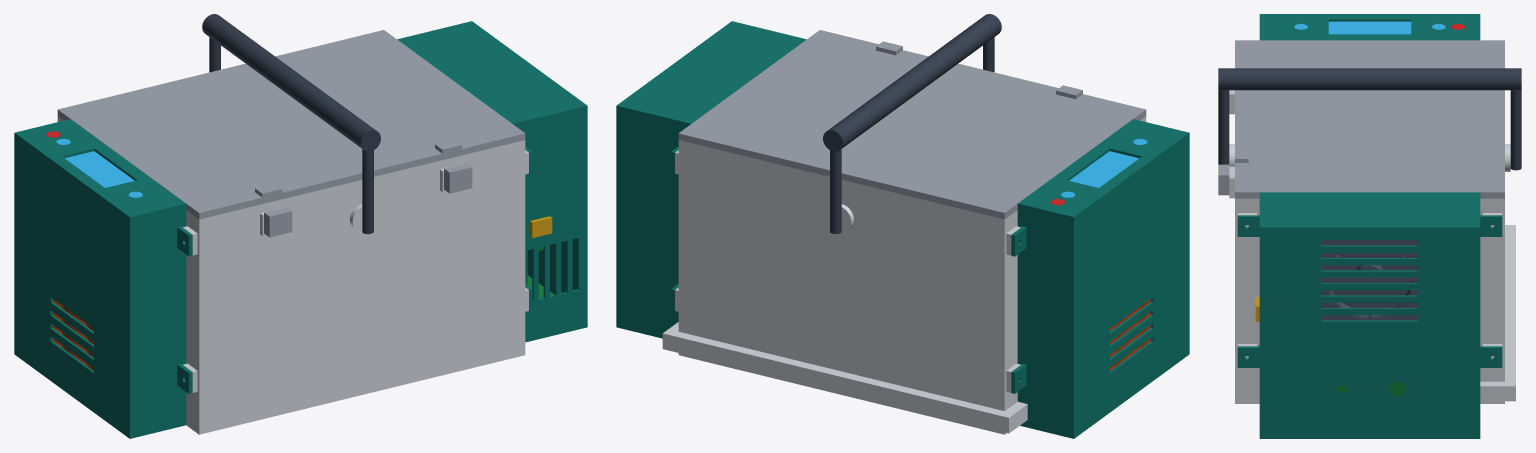
3 renders of one model, left to right at view 1: azimuth 30°, elevation 25°; view 2: azimuth 150°, elevation 25°; view 3: azimuth 270°, elevation 25°, orthographic. The views are drawn at different scales.
Visible parts, largest first — view 1: Outer shell, End housings (cooling head, battery bay), Lid cap with gasket, Bail handle and shoulder strap, E-paper display and two status lights, LiFePO4 pack, 12.8 V 6 Ah, with BMS; view 2: Outer shell, End housings (cooling head, battery bay), Lid cap with gasket, Bail handle and shoulder strap, E-paper display and two status lights, LiFePO4 pack, 12.8 V 6 Ah, with BMS; view 3: End housings (cooling head, battery bay), Lid cap with gasket, Outer shell, Bail handle and shoulder strap, Hot-side heat sink and fan, E-paper display and two status lights.
Boxes of the visible parts, x1,y1,x2,y2 form: Outer shell: (57,116,528,434); End housings (cooling head, battery bay): (14,21,587,438); Lid cap with gasket: (57,30,525,237); Bail handle and shoulder strap: (202,14,380,234); E-paper display and two status lights: (56,138,142,197); LiFePO4 pack, 12.8 V 6 Ah, with BMS: (53,299,93,370); Outer shell: (662,116,1146,434); End housings (cooling head, battery bay): (616,21,1189,438); Lid cap with gasket: (678,30,1146,219); Bail handle and shoulder strap: (823,14,1001,234); E-paper display and two status lights: (1061,138,1147,197); LiFePO4 pack, 12.8 V 6 Ah, with BMS: (1110,299,1150,370); End housings (cooling head, battery bay): (1237,14,1502,438); Lid cap with gasket: (1218,40,1504,198); Outer shell: (1229,90,1515,403); Bail handle and shoulder strap: (1218,68,1521,170); Hot-side heat sink and fan: (1321,240,1418,320); E-paper display and two status lights: (1294,21,1445,34).
Size of the model in its own units: 0.366 by 0.207 by 0.22.
